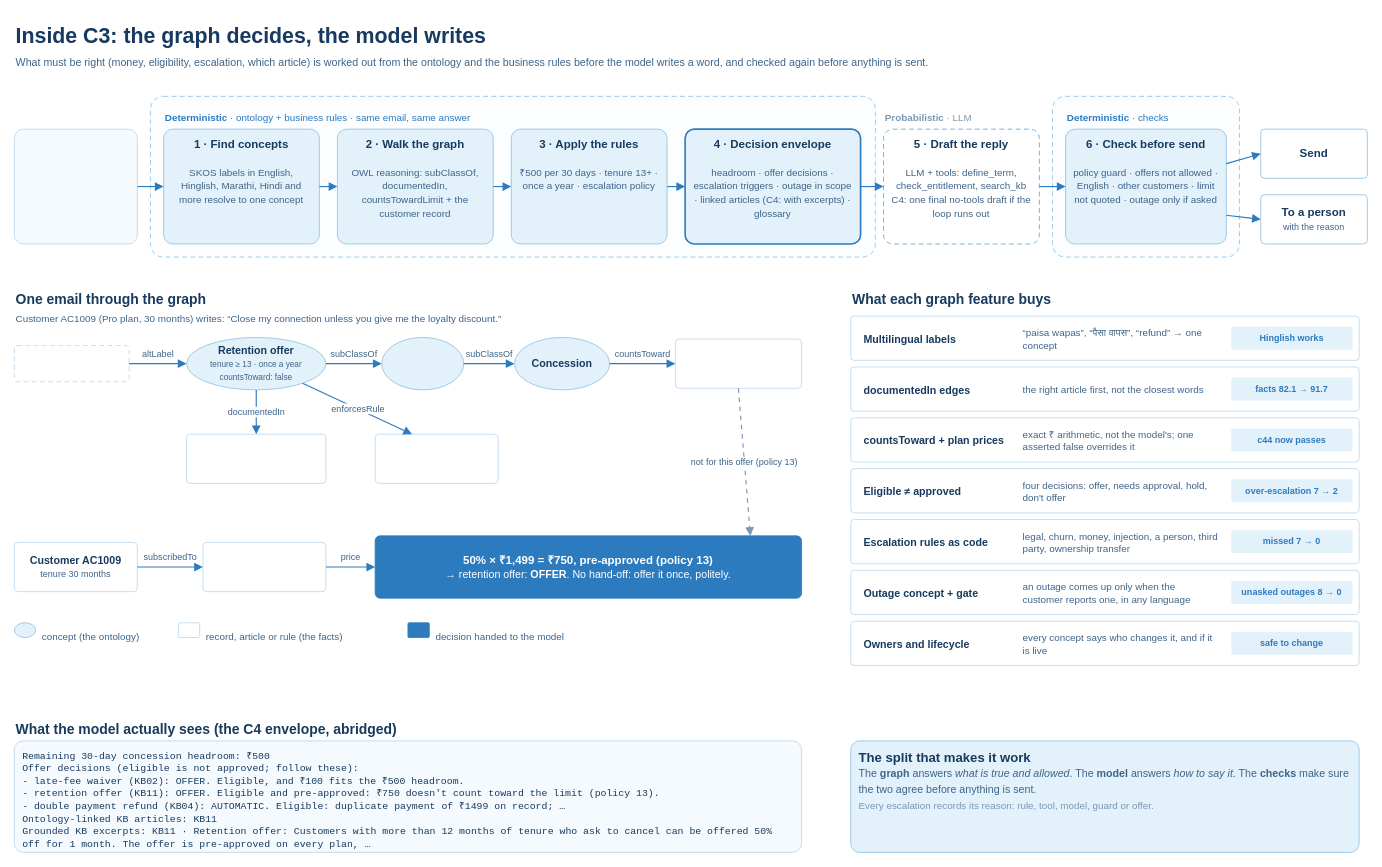
This 1382x867 diagram has some shape labels left out. Each missing label, with the box of its shape:
Concession limit ₹500 per 30 days: (674, 338, 802, 388)
Customer email “Close my connection unless you give me the loyalty discount.”: (14, 128, 137, 244)
Discount: (381, 337, 464, 390)
KB11 article how to offer it: (186, 433, 326, 483)
Policy rules 10, 13 owned by Retention: (374, 433, 498, 483)
Pro plan ₹1,499 a month: (202, 542, 326, 592)
“loyalty discount”: (14, 345, 129, 382)
